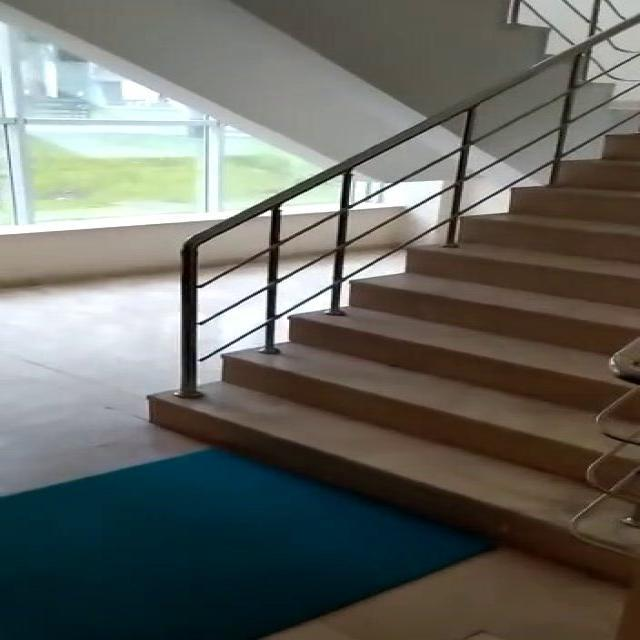stair: (132, 133, 634, 597)
